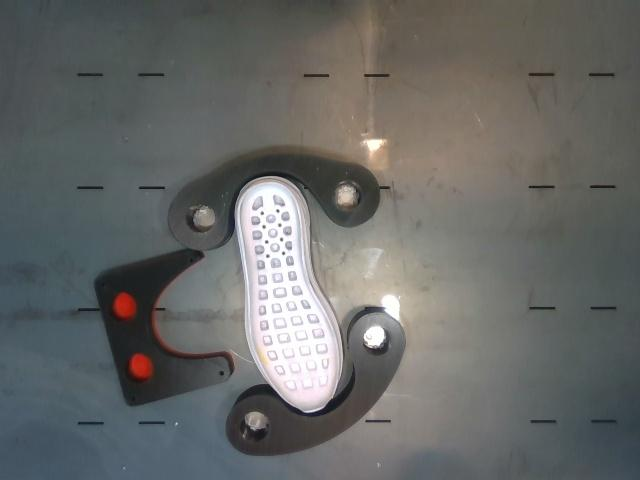shoes: (239, 183, 338, 412)
